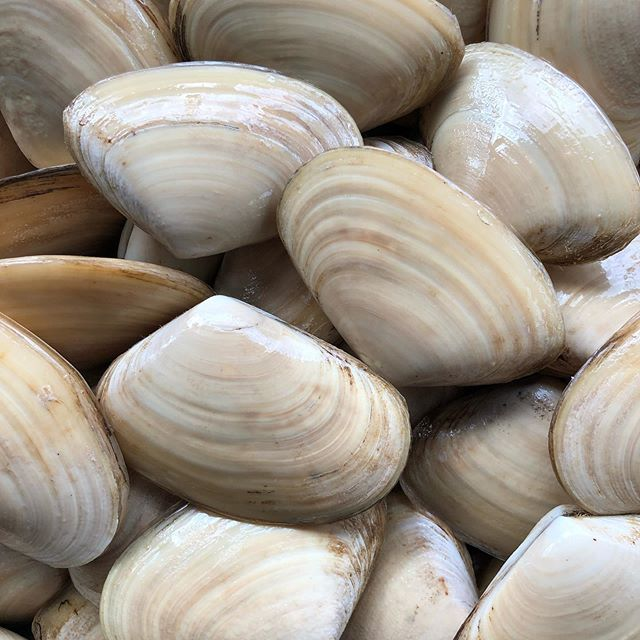tuatua: (93, 287, 412, 521), (278, 145, 568, 388), (58, 59, 362, 260), (420, 34, 635, 268), (97, 493, 376, 640), (166, 2, 474, 128), (1, 317, 128, 572), (395, 381, 558, 559), (456, 494, 640, 628), (1, 248, 209, 349)
